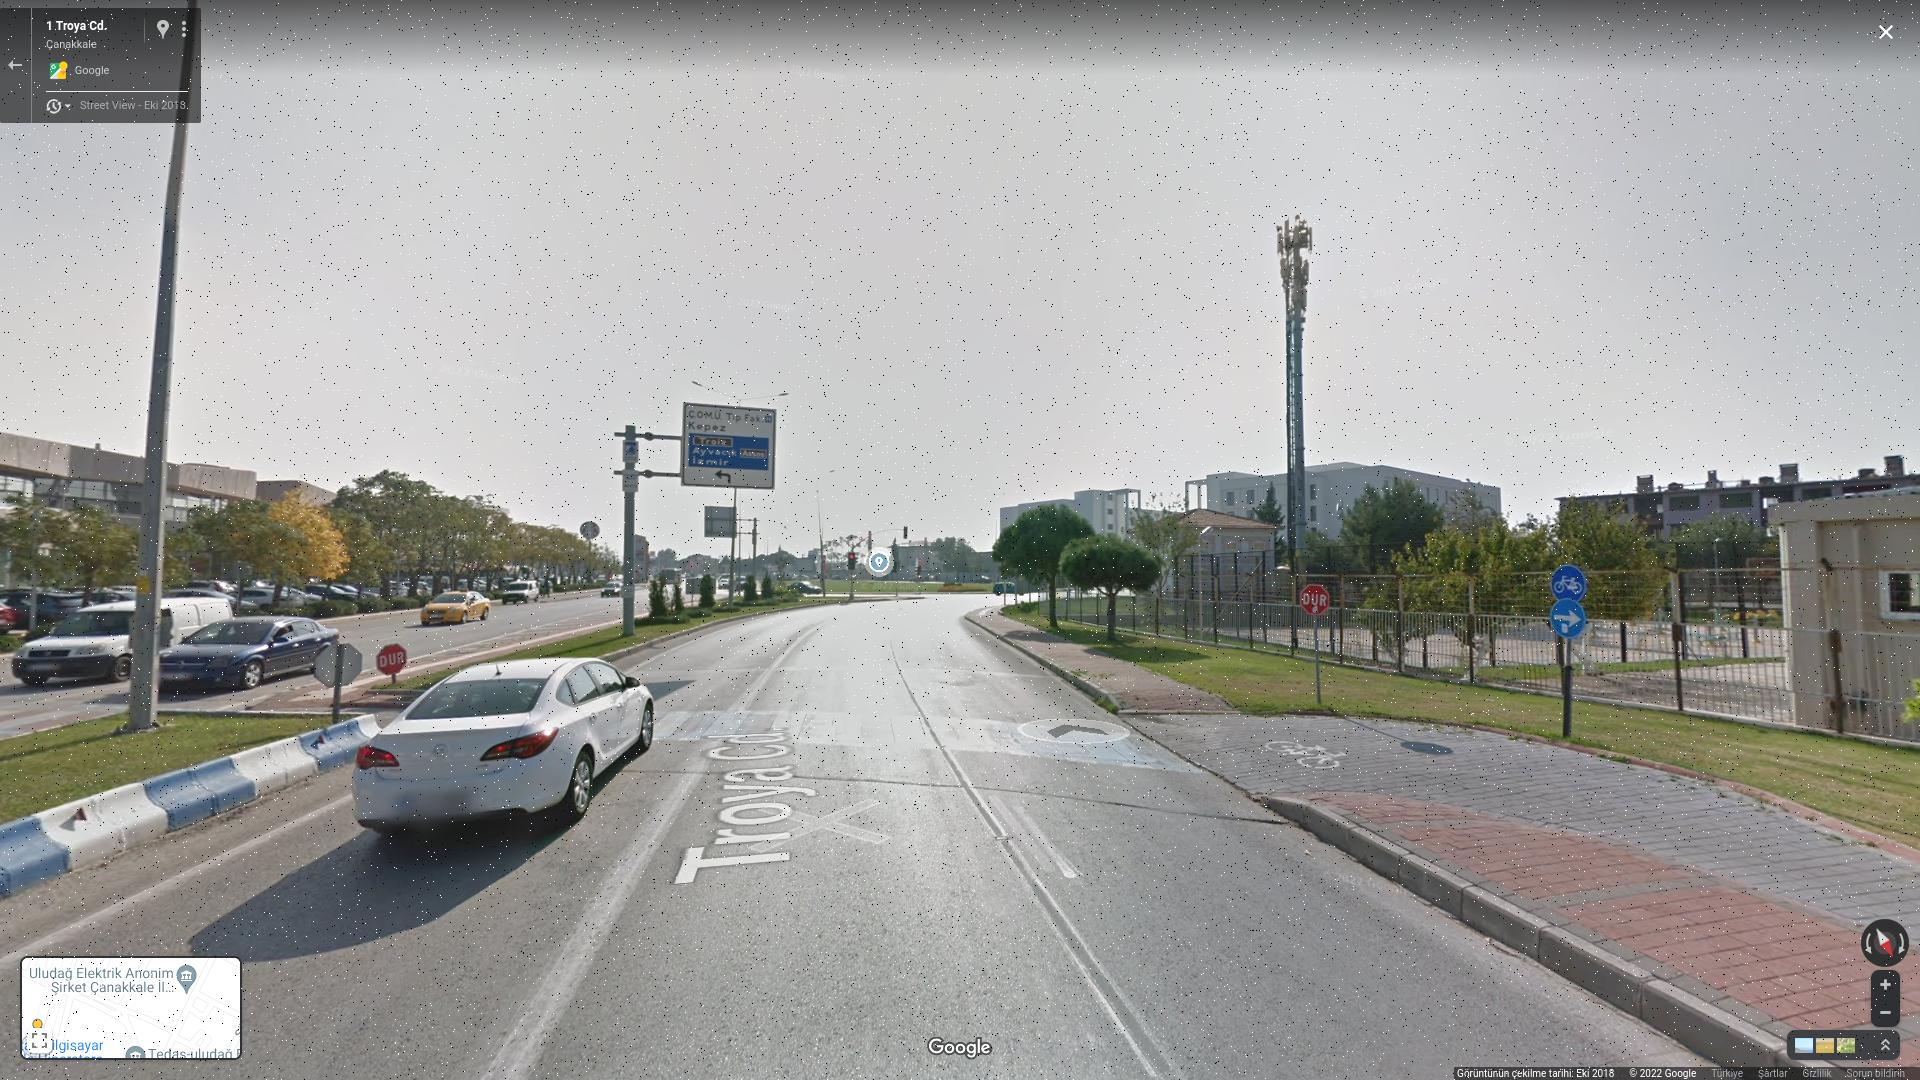redlight: (848, 551, 856, 571)
stop: (1299, 582, 1329, 615), (377, 644, 407, 675)
turnright: (1549, 599, 1584, 640)
